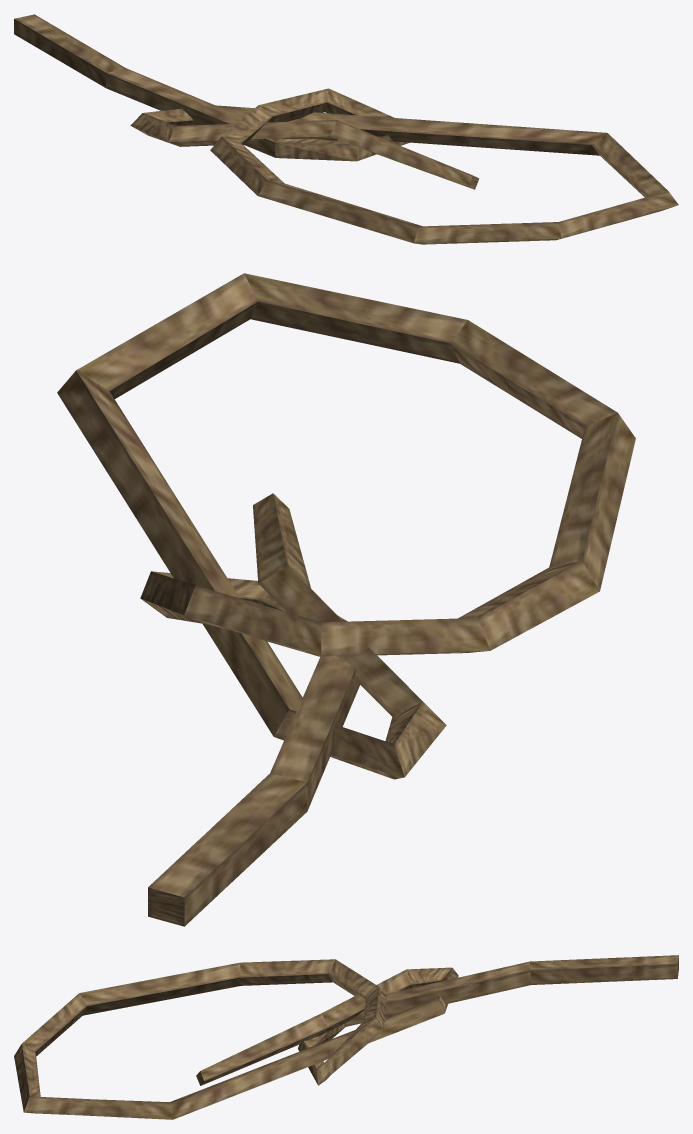
File: IT_SLAVEROPE.glb
3 views of the same model, one above another, from view 1: azimuth 30°, elevation 25°; view 2: azimuth 150°, elevation 25°; view 3: azimuth 270°, elevation 25° (orthographic). The views are drawn at different scales.
Visible parts, largest first — view 1: IT_SLAVEROPE; view 2: IT_SLAVEROPE; view 3: IT_SLAVEROPE.
Part boxes in pixels (box(x1,y1,x2,y2)): IT_SLAVEROPE: box(14, 14, 678, 244); IT_SLAVEROPE: box(57, 273, 635, 926); IT_SLAVEROPE: box(14, 955, 678, 1119).
Size of the model in its own units: 0.3664 by 0.0489 by 0.666.
Materials: 1 (1 with a texture image).
